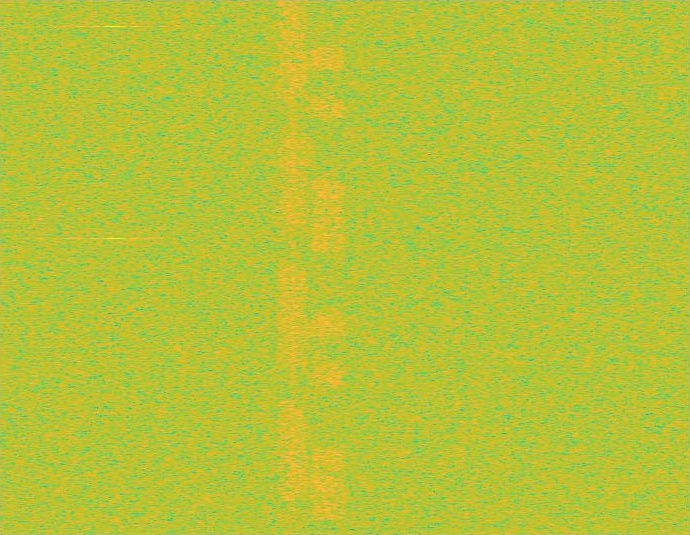5G: (276, 0, 311, 534)
DSSS: (289, 0, 297, 534)
LTE: (311, 0, 345, 534)
Radar: (108, 0, 121, 534)
